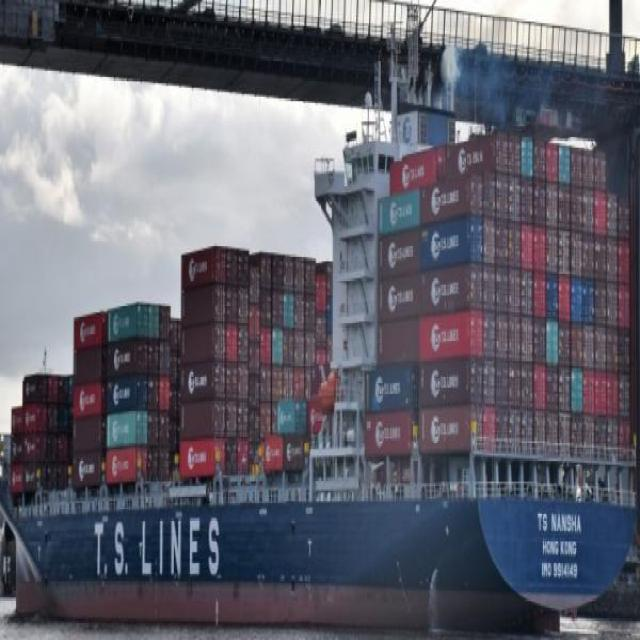Container Ship: (4, 5, 635, 635)
